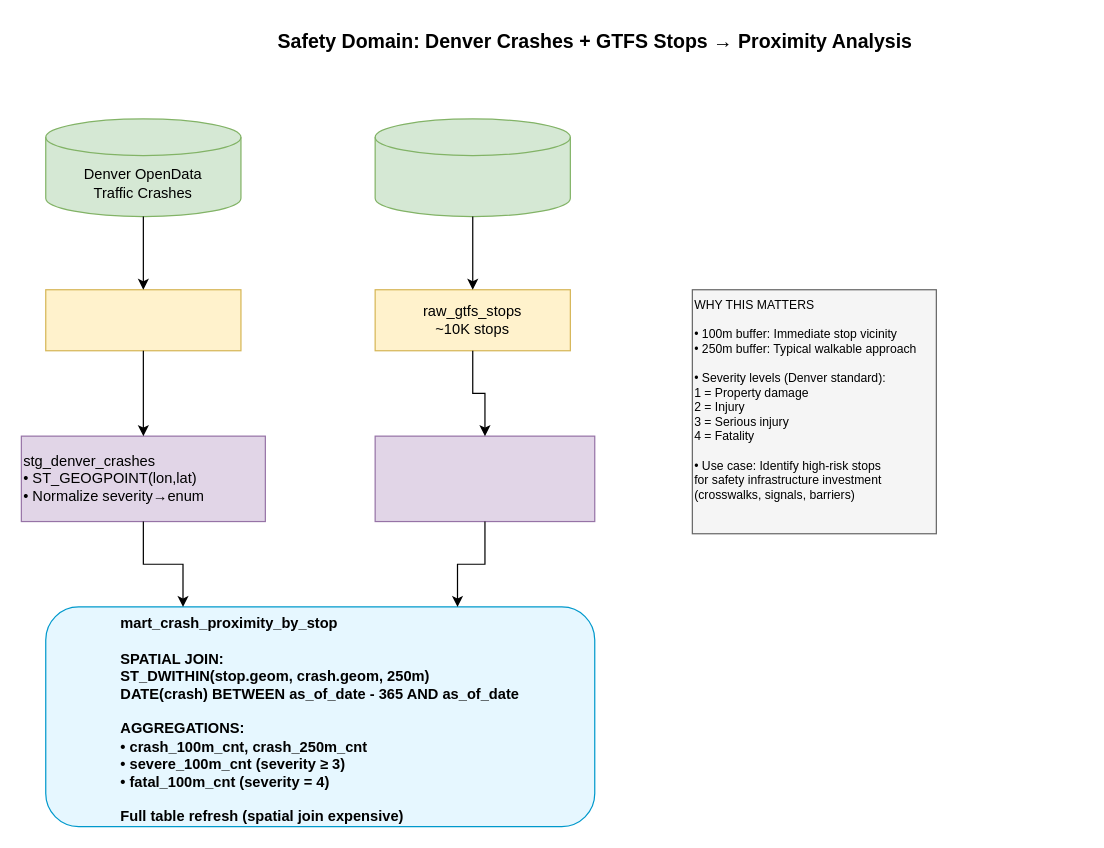
Image size: 1104x848. Some labels were removed from this diagram. The shapes that lost their labels are listed below. From the top down, each one's centre as x and y in pixels, then its label:
pixel 472 167: RTD GTFS Stops
pixel 143 320: raw_crashes ~50K crashes (5y)
pixel 484 478: stg_gtfs_stops • ST_GEOGPOINT(lon,lat) • Dedupe by stop_id
